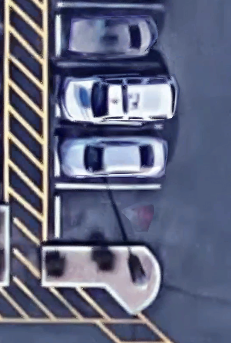Occupied: (58, 64, 164, 126), (57, 125, 163, 186), (58, 7, 164, 64)
Vacant: (57, 186, 163, 244)
